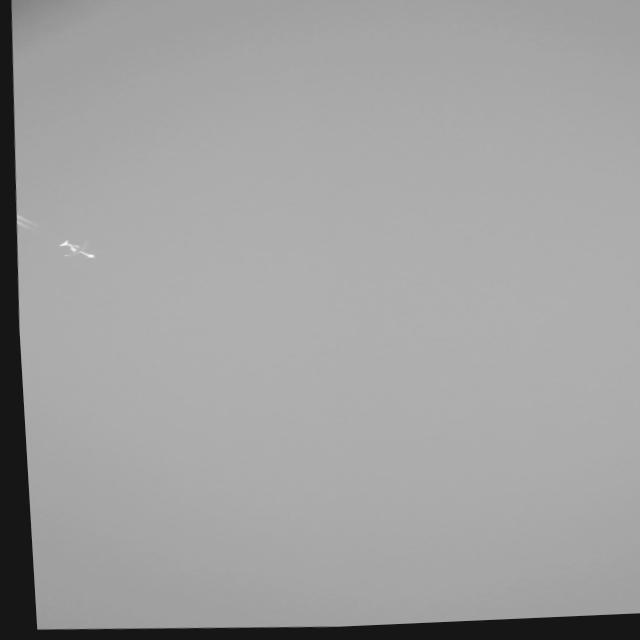aeroplane: (51, 235, 100, 262)
